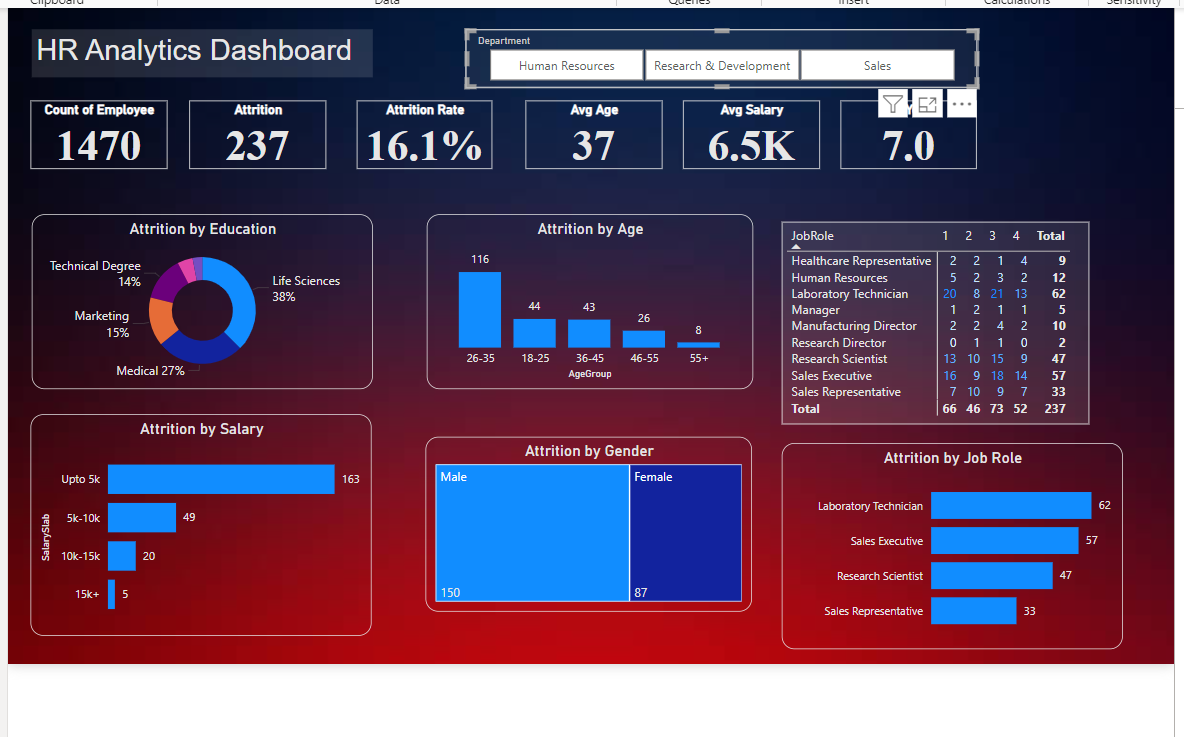

The page's visual inventory and layout, read from the dashboard file:
{"tool":"powerbi","page":{"name":"Page 1","canvas":[1280,720],"ordinal":0},"visuals":[{"type":"card","title":"Count of Employee","fields":{"Values":["CountNonNull(HR_Analytics.EmpID)"]},"box":[24.2,101.2,150,75],"z":0},{"type":"card","title":"Attrition","fields":{"Values":["Sum(HR_Analytics.AttritionCount)"]},"box":[199.6,101.2,150,75],"z":1000},{"type":"card","title":"Attrition Rate","fields":{"Values":["HR_Analytics.AttritionRate"]},"box":[383.4,101.2,149,75],"z":2000},{"type":"card","title":"Avg Age","fields":{"Values":["Avg(HR_Analytics.Age)"]},"box":[568.7,101.2,150,75],"z":3000},{"type":"card","title":"Avg Salary","fields":{"Values":["Avg(HR_Analytics.MonthlyIncome)"]},"box":[741.2,101.2,150,75],"z":4000},{"type":"card","title":"Avg Years","fields":{"Values":["Avg(HR_Analytics.YearsAtCompany)"]},"box":[913.7,101.2,149.7,75.5],"z":5000},{"type":"donutChart","title":"Attrition by Education ","fields":{"Category":["HR_Analytics.EducationField"],"Y":["Sum(HR_Analytics.AttritionCount)"]},"box":[25.8,225.8,374.2,191.7],"z":6000},{"type":"columnChart","title":"Attrition by Age","fields":{"Category":["HR_Analytics.AgeGroup"],"Y":["Sum(HR_Analytics.AttritionCount)"]},"box":[460,226,358,192],"z":7000},{"type":"pivotTable","fields":{"Rows":["HR_Analytics.JobRole"],"Columns":["HR_Analytics.JobSatisfaction"],"Values":["Sum(HR_Analytics.AttritionCount)"]},"box":[849.4,234.6,337.6,222.3],"z":8000},{"type":"barChart","title":"Attrition by Salary","fields":{"Category":["HR_Analytics.SalarySlab"],"Y":["Sum(HR_Analytics.AttritionCount)"]},"box":[24.7,446,374.6,242.9],"z":8001},{"type":"barChart","title":"Attrition by Job Role","fields":{"Category":["HR_Analytics.JobRole"],"Y":["Sum(HR_Analytics.AttritionCount)"]},"box":[849.4,477.5,374.6,226.4],"z":8002},{"type":"treemap","title":"Attrition by Gender","fields":{"Group":["HR_Analytics.Gender"],"Values":["Sum(HR_Analytics.AttritionCount)"]},"box":[458.3,470,358.3,191.7],"z":8003},{"type":"slicer","fields":{"Values":["HR_Analytics.Department"]},"box":[502.9,22.9,561.4,64.3],"z":8004},{"type":"textbox","box":[25.7,22.9,374.3,52.9],"z":8006}]}

Visuals, with their boxes in screenshot pixels (x1, y1, x2, y2):
"Count of Employee" card: [0, 84, 146, 157]
"Attrition" card: [171, 84, 318, 157]
"Attrition Rate" card: [351, 84, 497, 157]
"Avg Age" card: [533, 84, 680, 157]
"Avg Salary" card: [702, 84, 849, 157]
"Avg Years" card: [871, 84, 1018, 158]
"Attrition by Education " donutChart: [1, 206, 368, 394]
"Attrition by Age" columnChart: [426, 206, 777, 394]
pivotTable - HR_Analytics.JobRole x HR_Analytics.JobSatisfaction: [808, 215, 1139, 433]
"Attrition by Salary" barChart: [0, 422, 367, 660]
"Attrition by Job Role" barChart: [808, 453, 1175, 675]
"Attrition by Gender" treemap: [425, 445, 776, 633]
slicer - HR_Analytics.Department: [468, 7, 1019, 70]
textbox: [1, 7, 368, 59]
